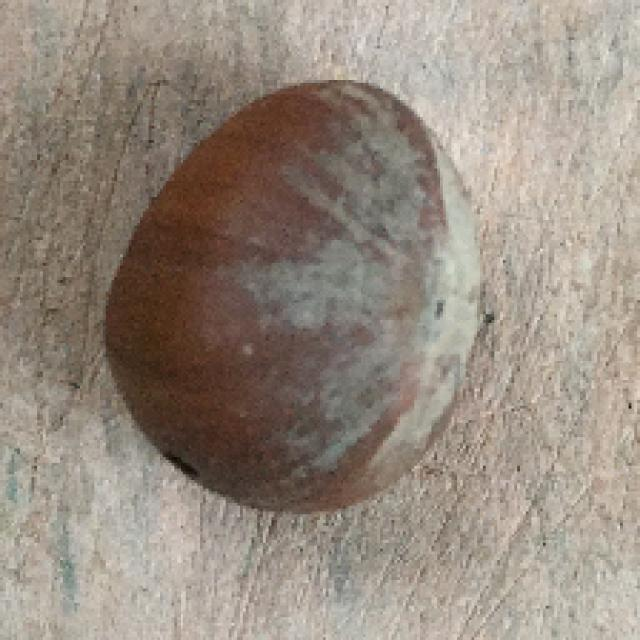qualityHazelnut: (97, 80, 493, 518)
